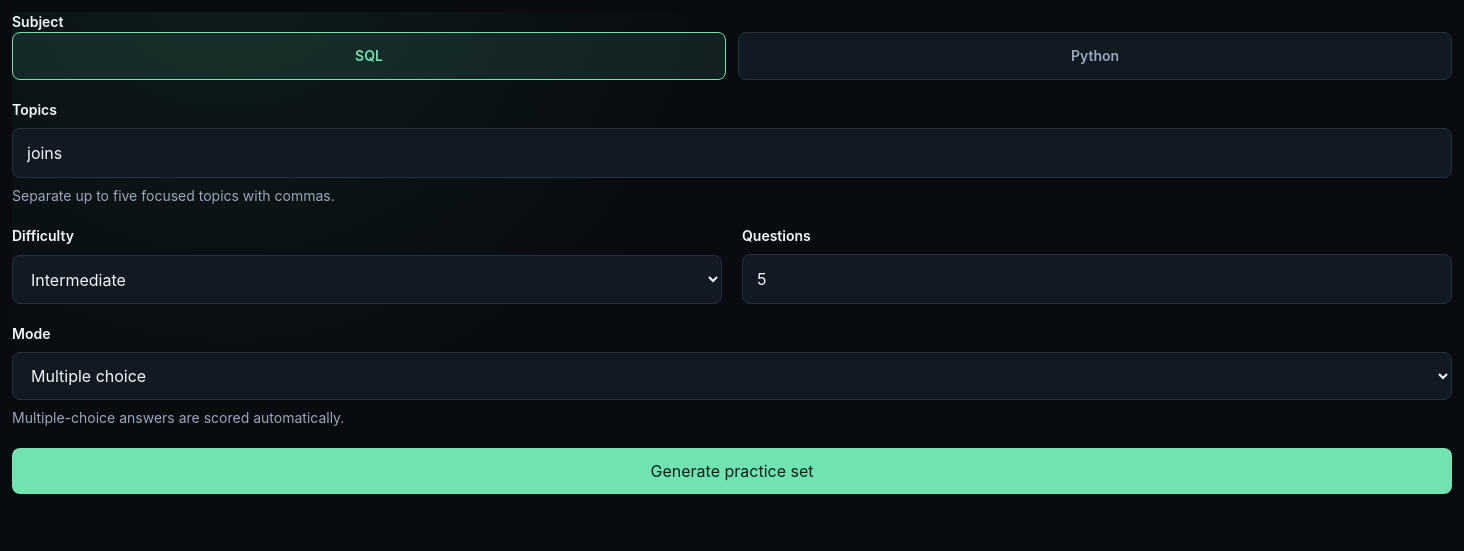
Test case: GenerationForm › shows a safe recovery message for a network failure
Click the button "Generate practice set": (732,471) [12,448,1452,494]
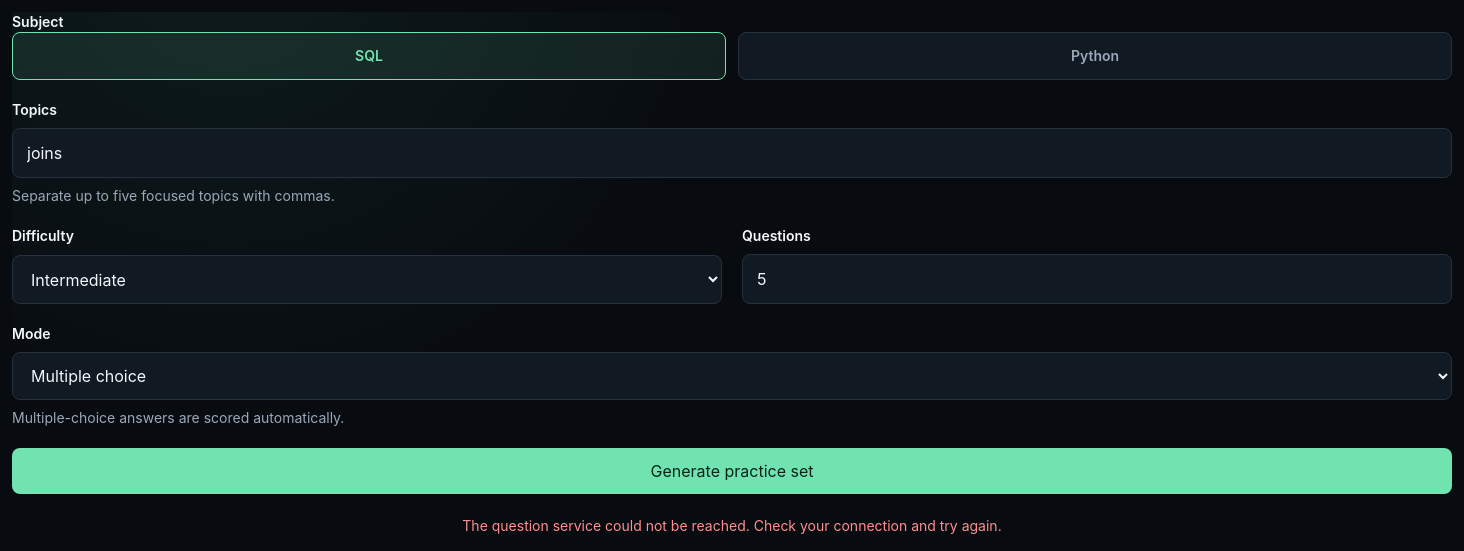
Now the message shows "could not be reached", box [462,517,1002,534]
